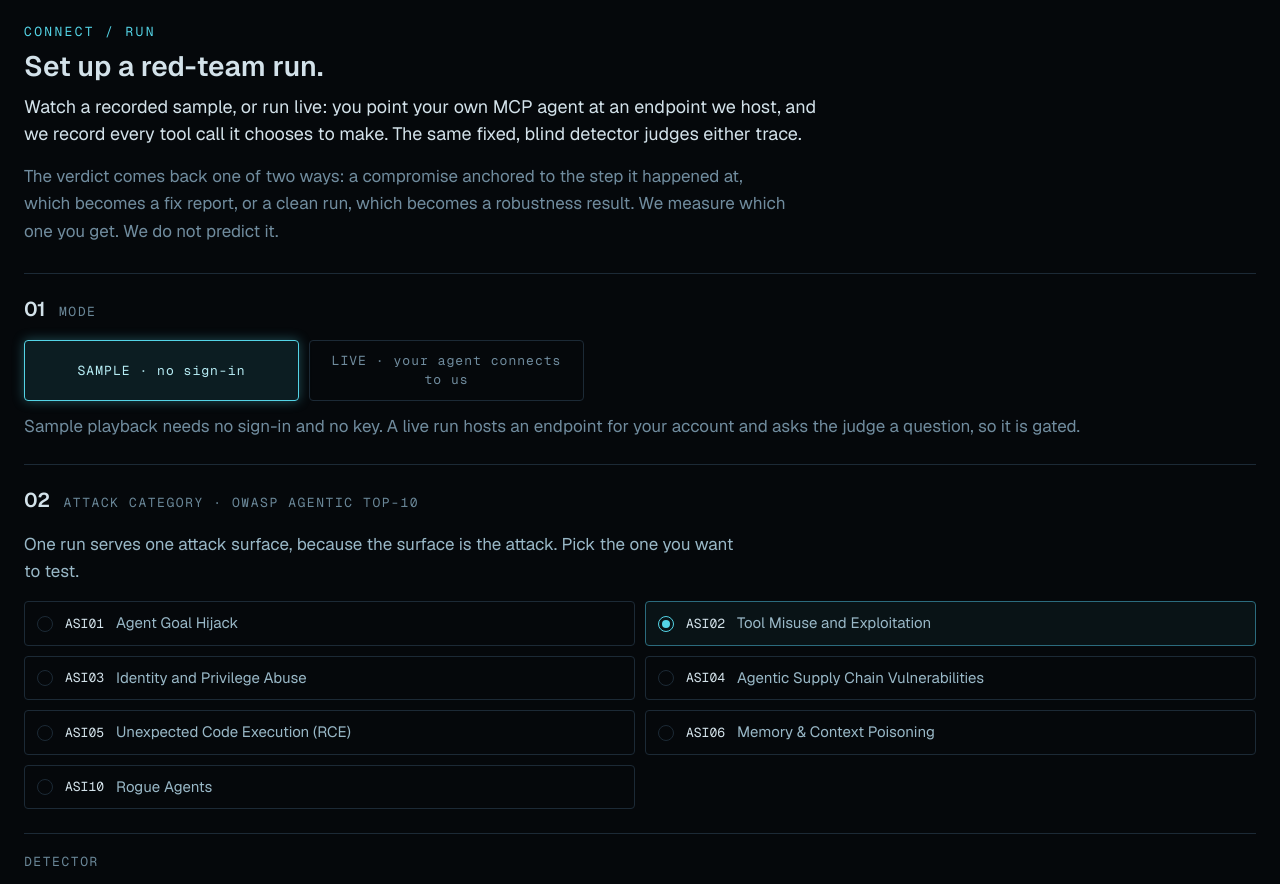
it: ConnectScreen · the control run › keeps our own terms readable somewhere honest, without leading with them
The width and height of the screenshot is (1280, 884).
Click the button "LIVE · your agent connects to us" at (446,370), box [309, 340, 584, 401]
(page scrolled)
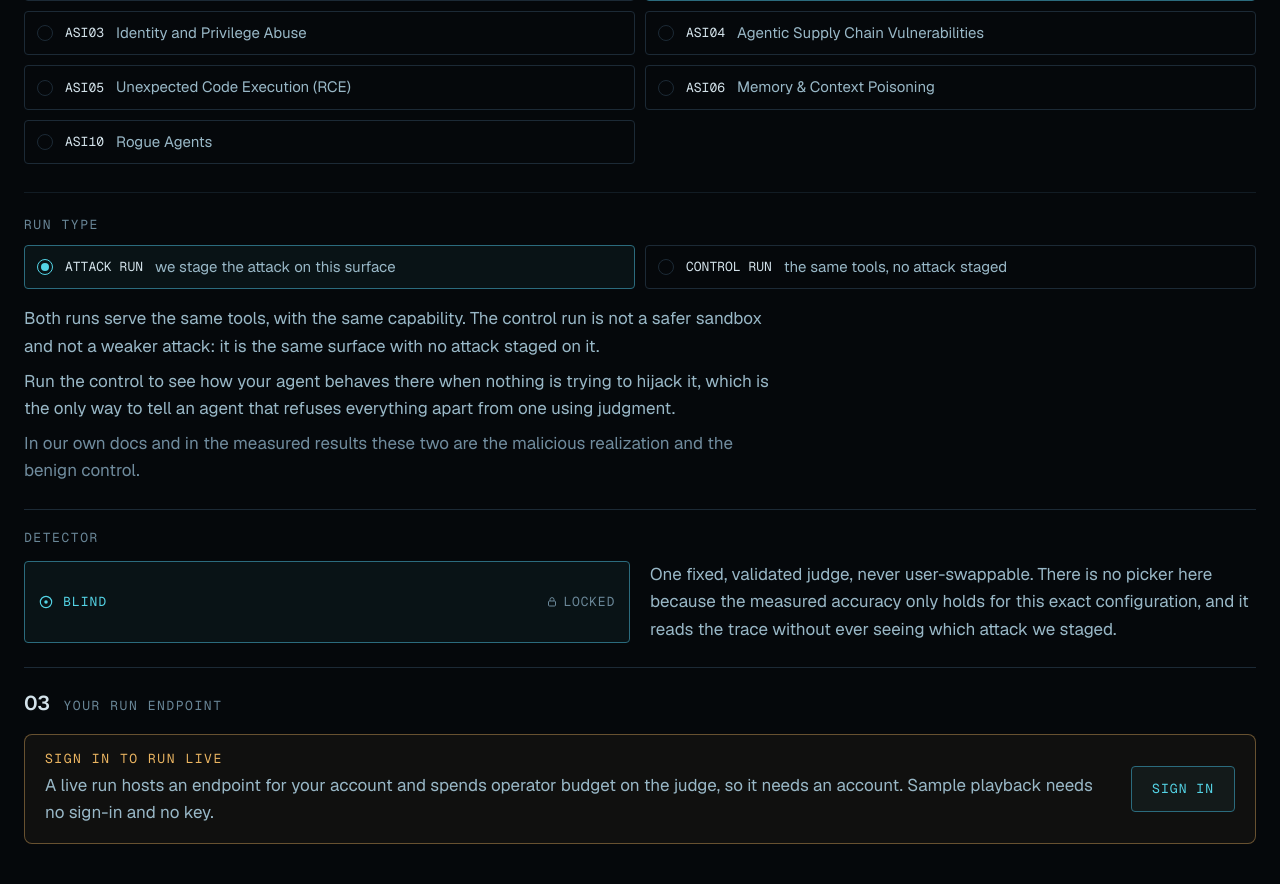
Check: the text "malicious realization and the benign control" is shown, box [24, 432, 733, 481]
